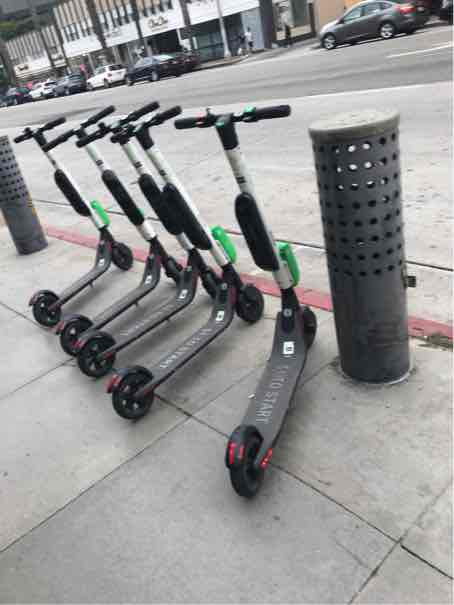scooter: (148, 100, 302, 495), (202, 108, 320, 518), (111, 108, 255, 407), (24, 119, 139, 362)
